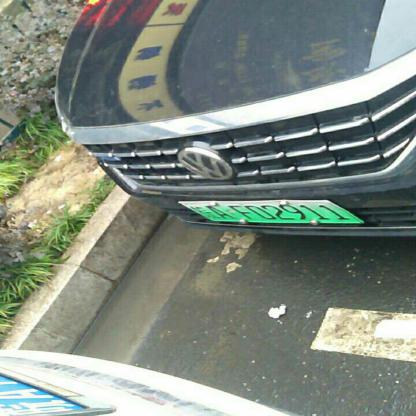lp: (179, 200, 361, 221)
